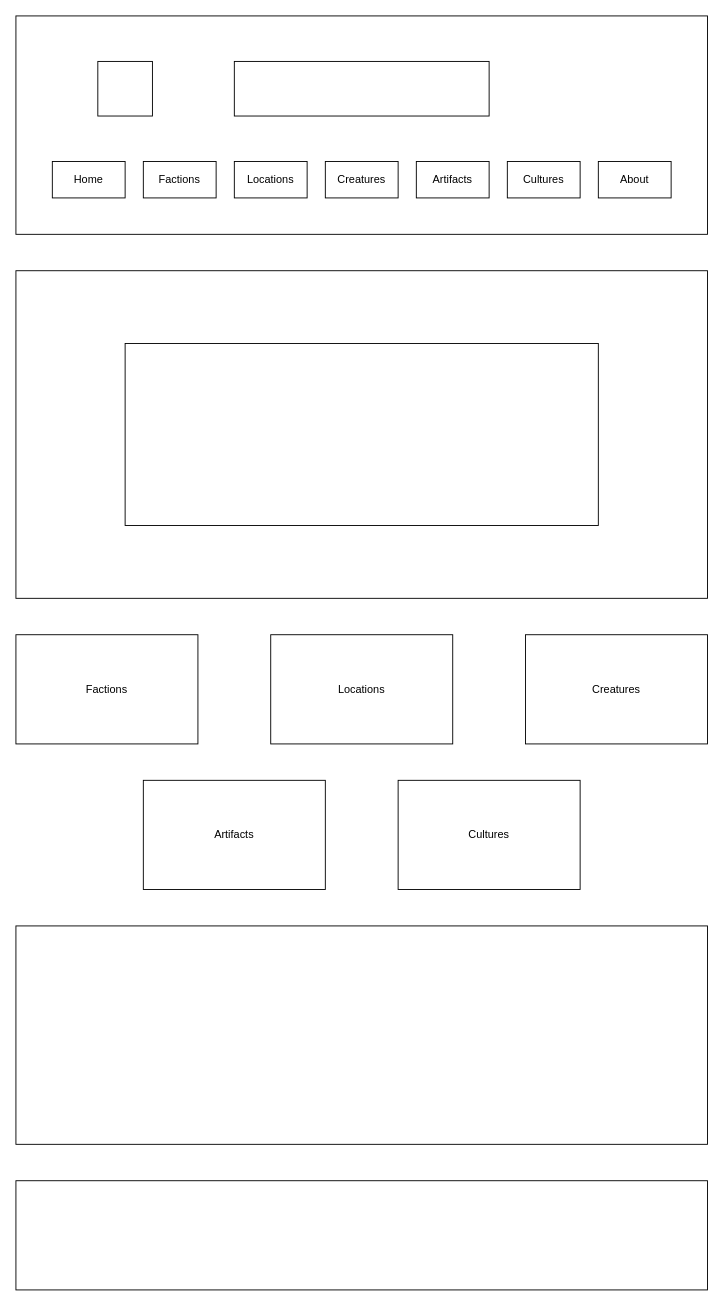
This 723x1306 diagram has some shape labels left out. The shapes that lost their labels are listed below. From the top down, each one's centre as x and y in pixels, then its label:
[124,88]: Logo
[361,88]: Word-Building Codex
[361,434]: Explore the World A structured encyclopedia for a fictional setting
[361,1034]: Featured Entry
[361,1235]: Footer
